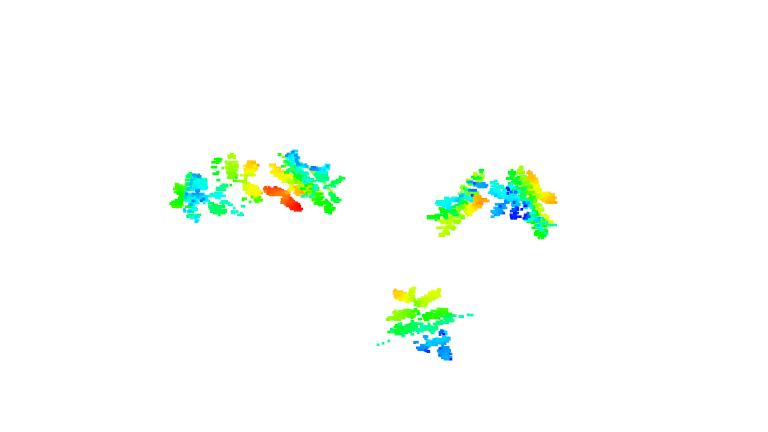chickpea: (164, 152, 268, 223), (384, 285, 457, 365), (261, 147, 345, 214), (487, 168, 561, 238), (425, 165, 492, 237)
